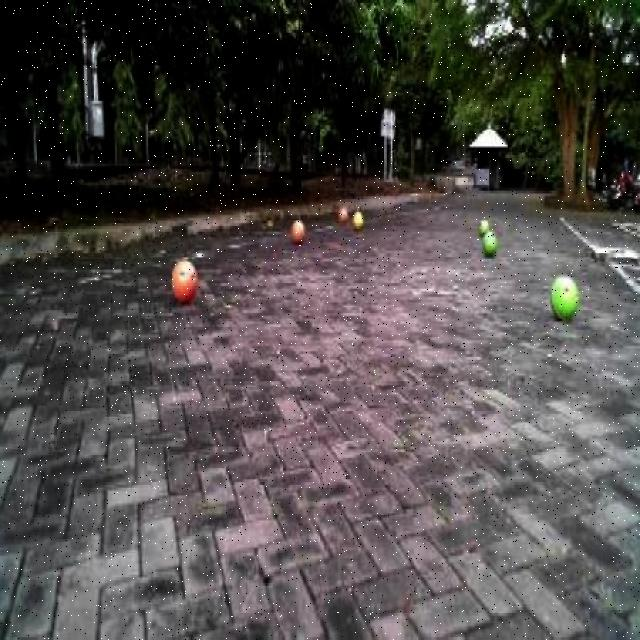buoy: (548, 272, 581, 324), (170, 256, 200, 306), (289, 216, 305, 246), (482, 228, 496, 255)
